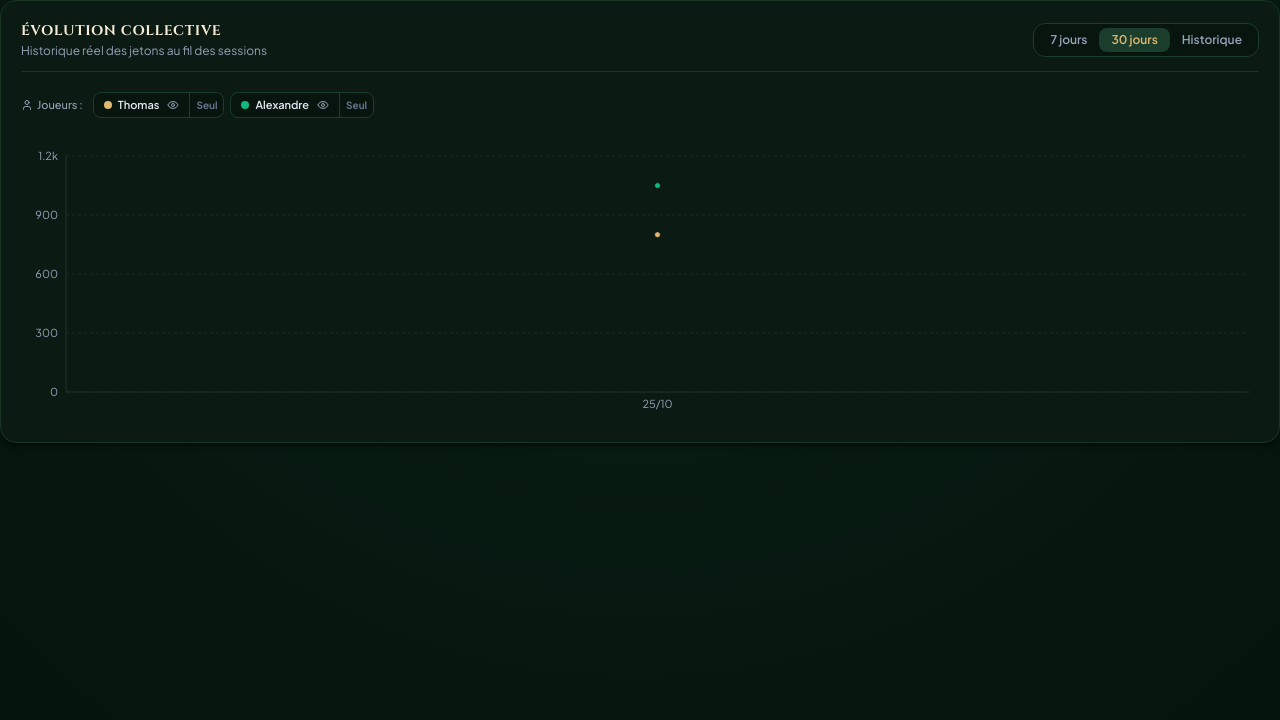
it: PokerTrendChart - Graphique multi-joueurs › active la vue individuelle au clic sur le bouton Seul
Step 1. Click the 1st button titled "Isoler Thomas" → x=206, y=105, box x1=189 y1=93 x2=223 y2=117
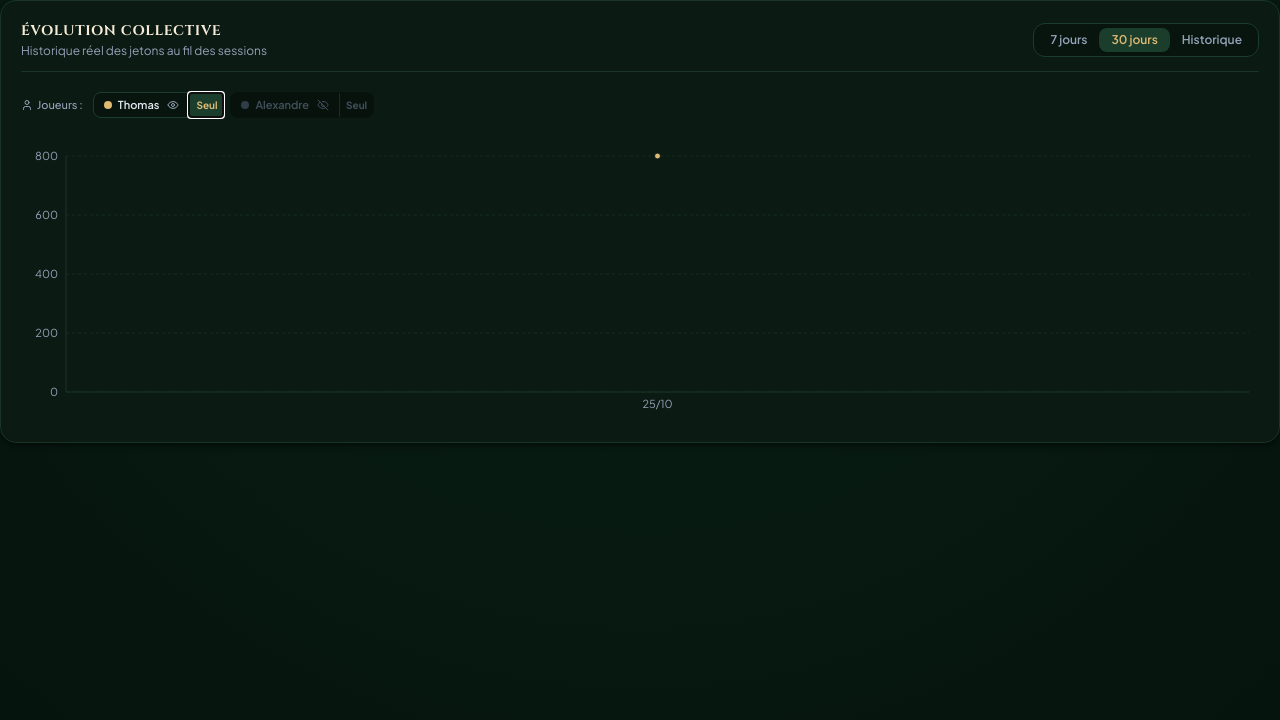
expect the 1st button titled "Afficher tous les joueurs" is shown: met, box x1=189 y1=93 x2=223 y2=117
